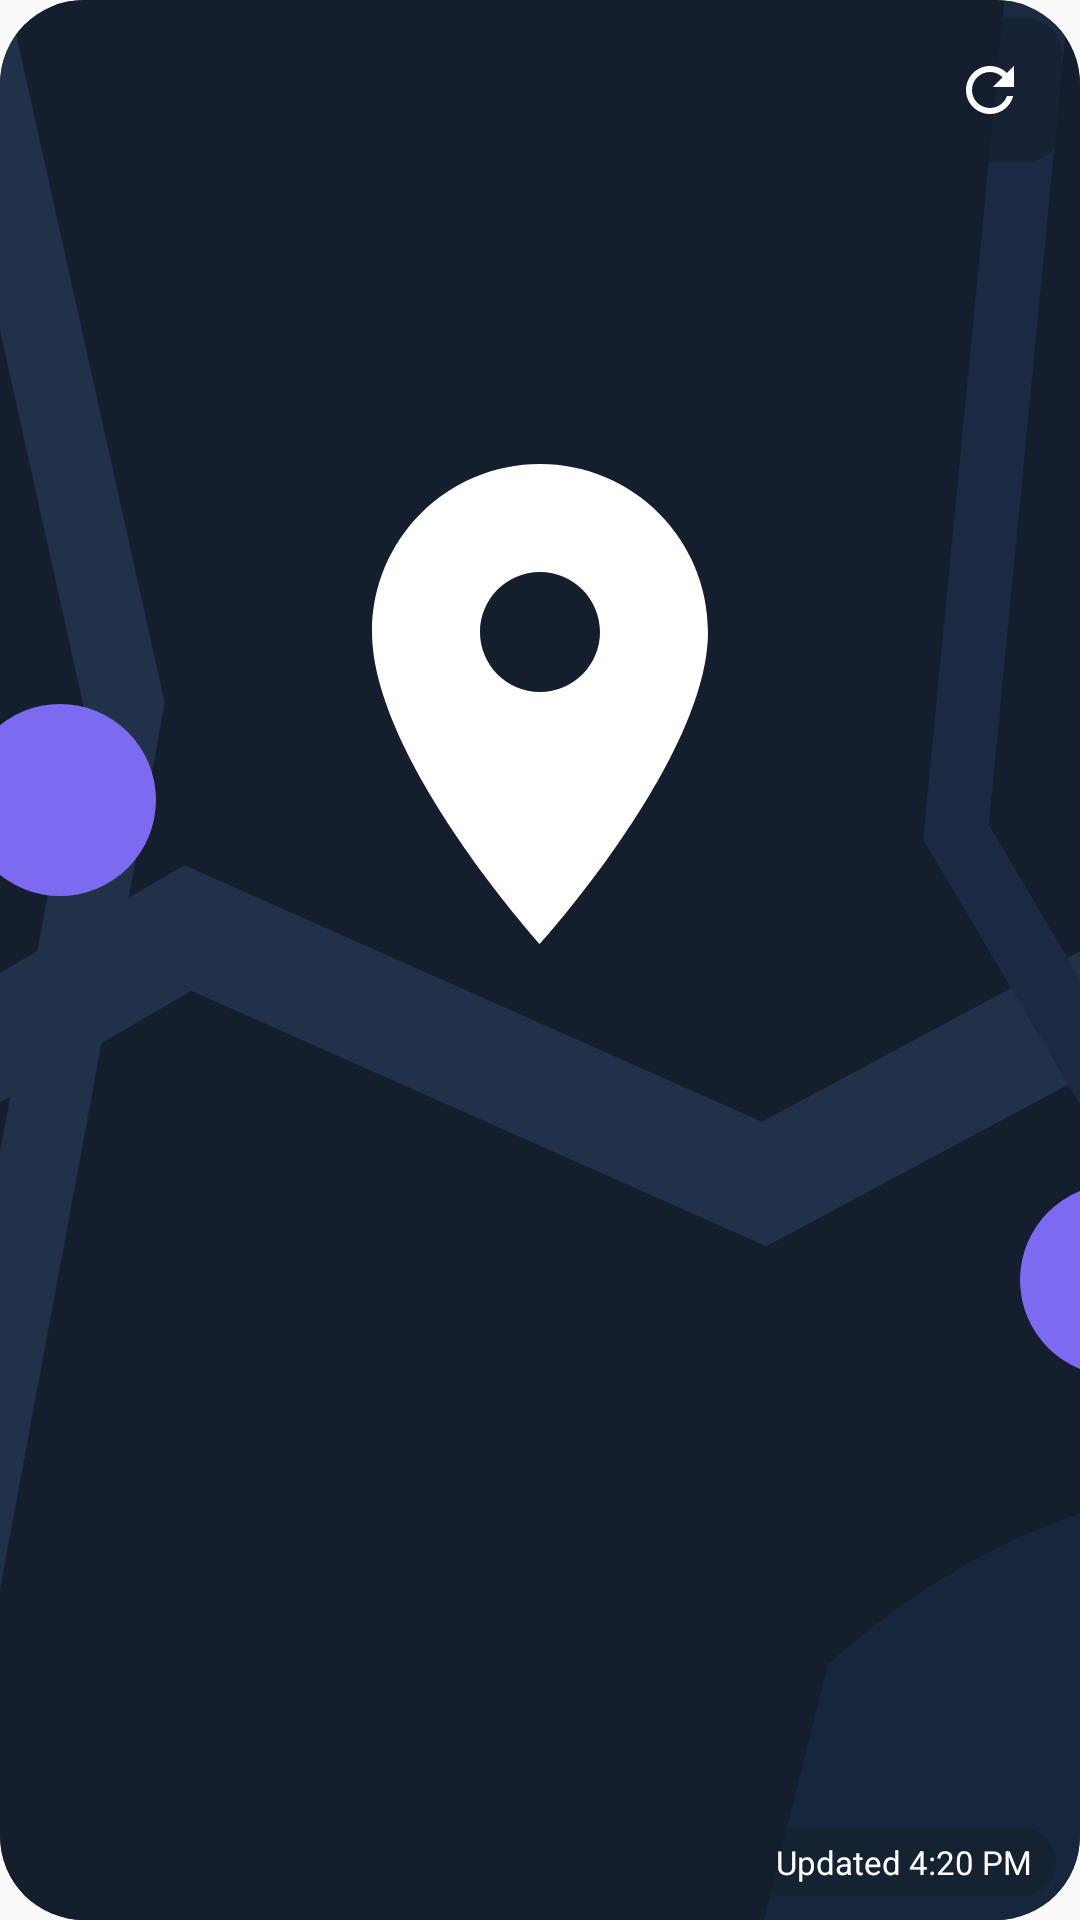

Locate icon controls on the screen. Image size 1080w x 1920h, boxes as [x1, y1, x2, y2].
Refresh: [966, 66, 1014, 114]
